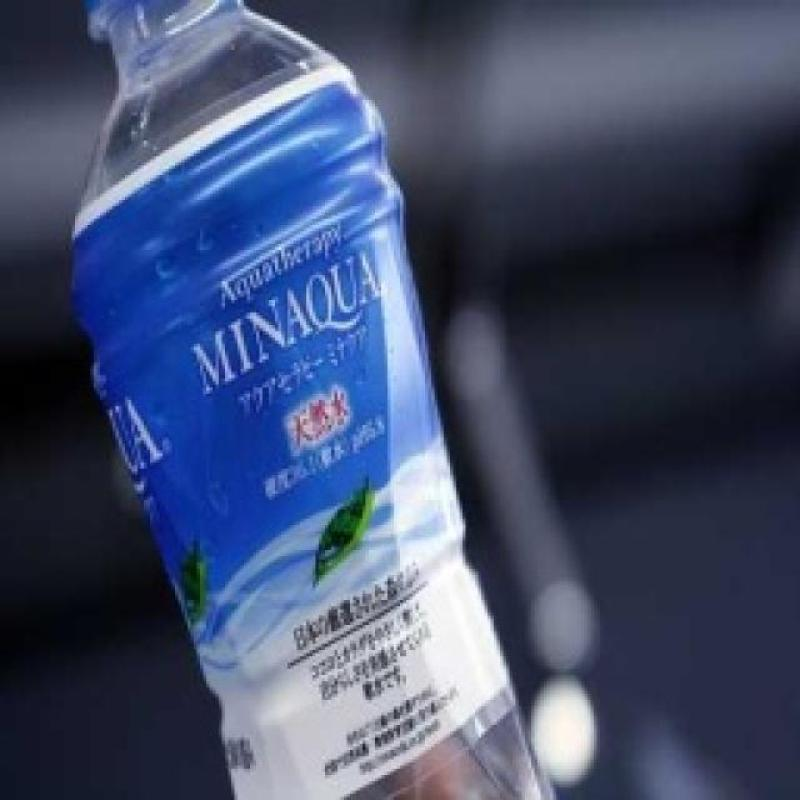botella: (65, 0, 563, 800)
